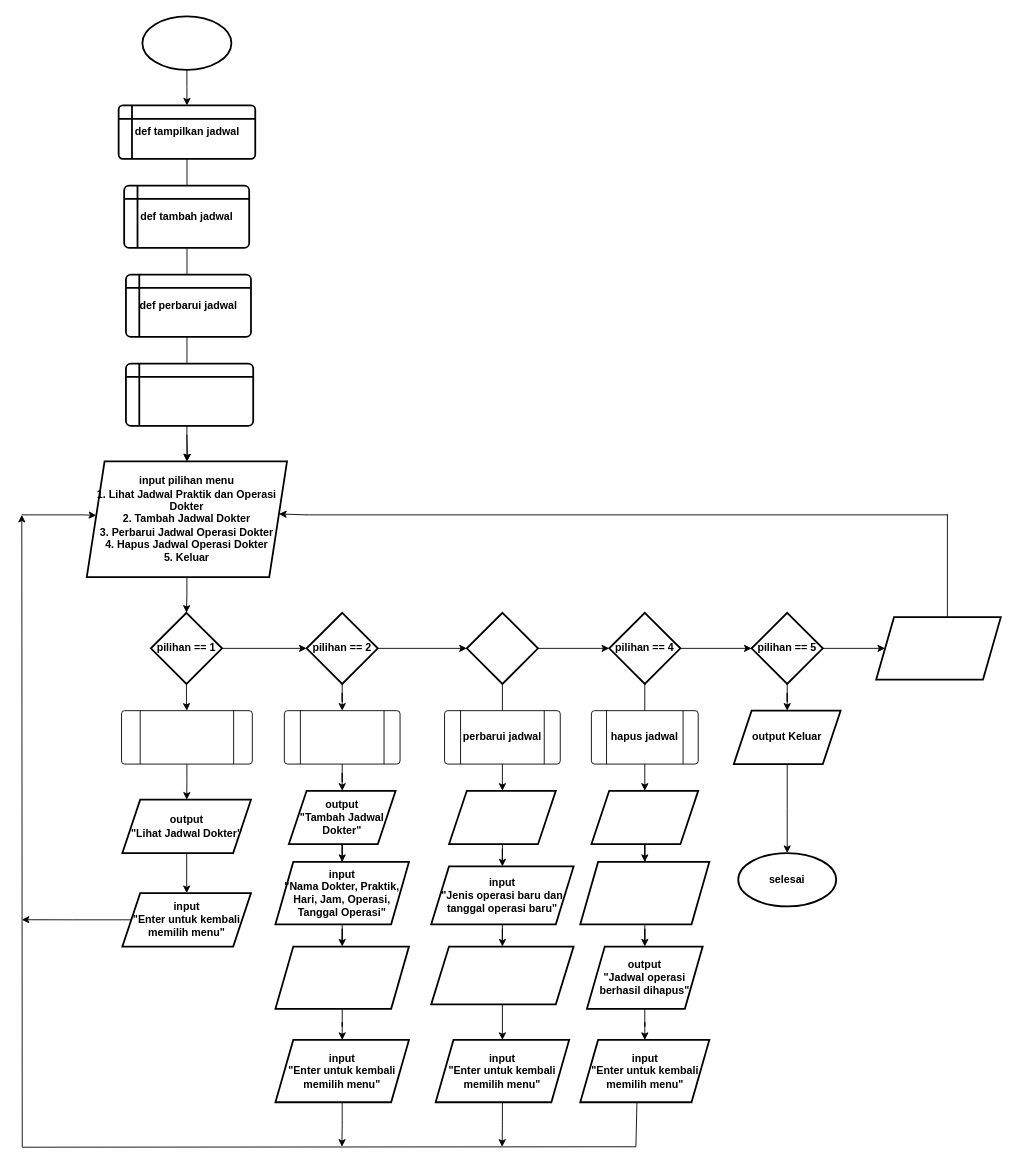
The diagram is 1017 pixels wide and 1169 high, and some of its shapes have lost their labels. The shapes that lost their labels are listed below. From the top down, each one's centre as x and y in pixels, then its label:
pixel 186 42: mulai
pixel 189 394: def hapus jadwal
pixel 501 647: pilihan == 3
pixel 938 648: output "Menu pilihan tidak tersedia"
pixel 186 737: tampilkan jadwal
pixel 341 737: tambah jadwal
pixel 502 817: output "Perbarui Jadwal Operasi Dokter"
pixel 644 817: output "Hapus Jadwal Operasi"
pixel 644 893: input "Jenis Operasi yang ingin dihapus"
pixel 341 977: output "Jadwal dokter berhasil ditambahkan"
pixel 502 975: output "Jadwal operasi berhasil diperbarui"
